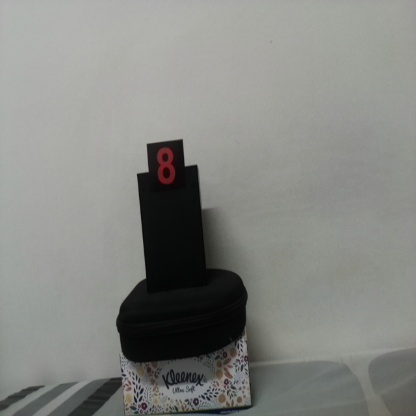id_8: (146, 144, 186, 197)
